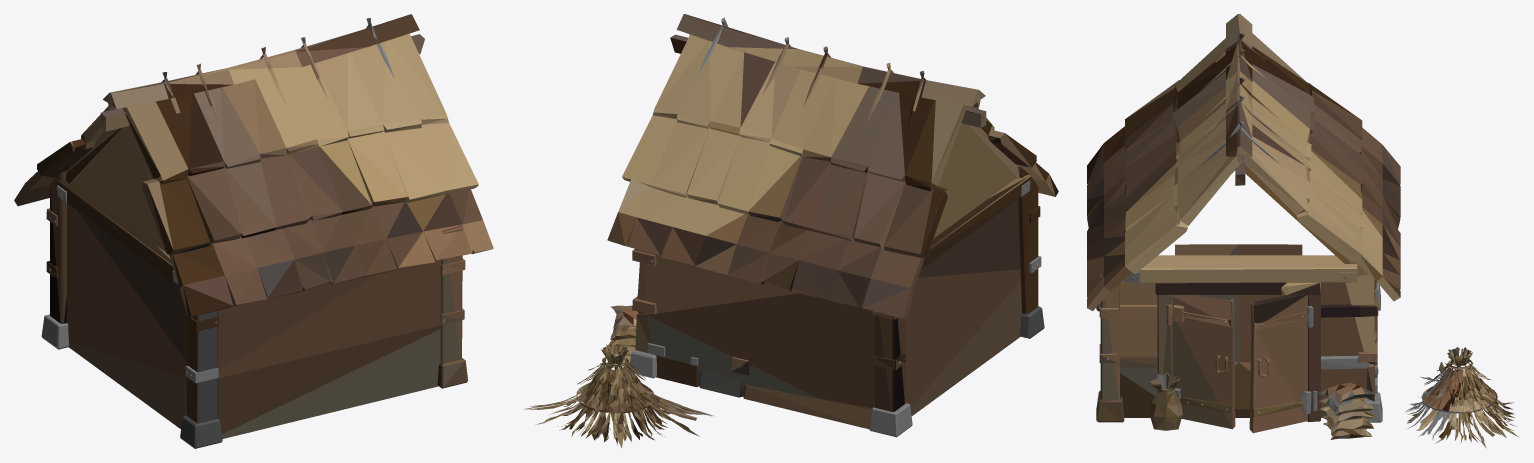
The model's file is Granary.glb.
3 renders of one model, left to right at view 1: azimuth 30°, elevation 25°; view 2: azimuth 150°, elevation 25°; view 3: azimuth 270°, elevation 25°, orthographic. The views are drawn at different scales.
Parts seen in each view (by area): view 1: world; view 2: world; view 3: world.
Boxes of the visible parts, bbox=[...] form: world: bbox=[14, 14, 493, 448]; world: bbox=[523, 14, 1058, 448]; world: bbox=[1087, 14, 1518, 448].
Size of the model in its own units: 0.8379 by 0.7754 by 0.998.
